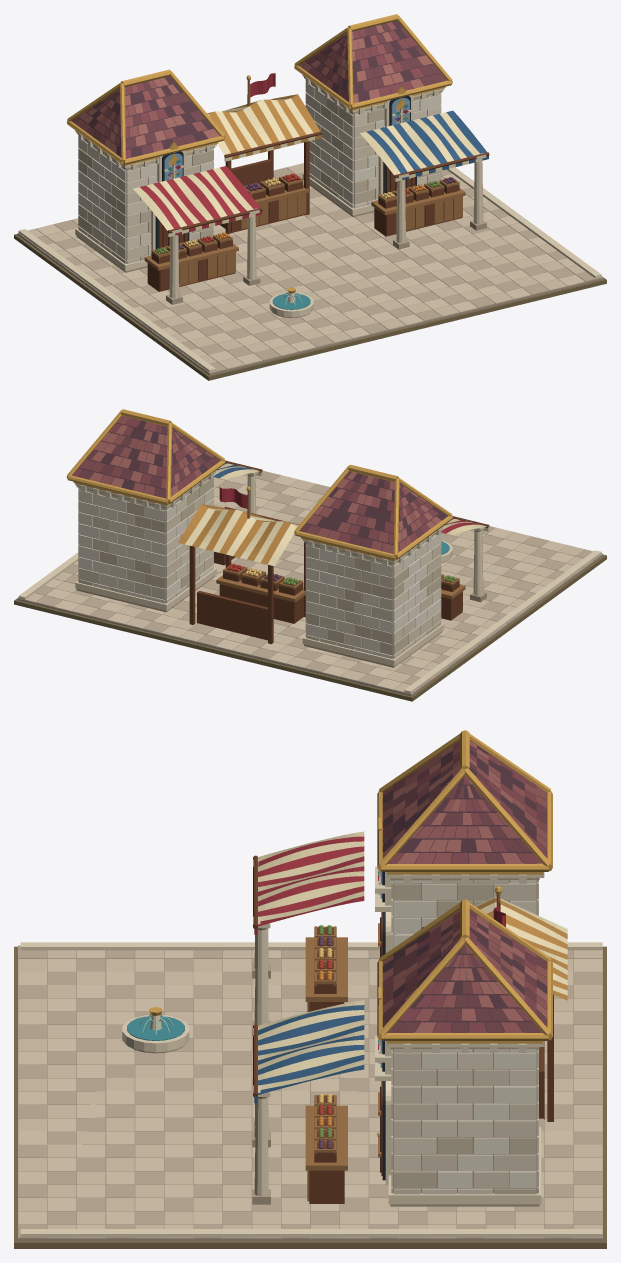
The model's file is market-nivel-4.glb.
3 renders of one model, top to bottom at view 1: azimuth 30°, elevation 25°; view 2: azimuth 150°, elevation 25°; view 3: azimuth 270°, elevation 25°, orthographic. The views are drawn at different scales.
Visible parts, largest first — view 1: Mercado 04 #c1af99, Mercado 04 #dac9af, Mercado 04 #d3c3a9, Mercado 04 #e6d7ba, Mercado 04 #eadbb2, Mercado 04 #70432c, Mercado 04 #9f7145, Mercado 04 #d5a452, Mercado 04 #ded1b9, Mercado 04 #593b44, Mercado 04 #e8dcc5, Mercado 04 #eae1ce (+14 smaller); view 2: Mercado 04 #c1af99, Mercado 04 #d3c3a9, Mercado 04 #dac9af, Mercado 04 #eae1ce, Mercado 04 #e8dcc5, Mercado 04 #ded1b9, Mercado 04 #70432c, Mercado 04 #e6d7ba, Mercado 04 #d5a452, Mercado 04 #593b44, Mercado 04 #cec1a8, Mercado 04 #7f704e (+11 smaller); view 3: Mercado 04 #d3c3a9, Mercado 04 #dac9af, Mercado 04 #c1af99, Mercado 04 #e6d7ba, Mercado 04 #d5a452, Mercado 04 #eadbb2, Mercado 04 #ded1b9, Mercado 04 #593b44, Mercado 04 #ae9d8b, Mercado 04 #eae1ce, Mercado 04 #7f704e, Mercado 04 #70444a (+14 smaller).
Part boxes in pixels (<box>): Mercado 04 #c1af99: <box>27,167,602,373</box>; Mercado 04 #dac9af: <box>36,174,584,364</box>; Mercado 04 #d3c3a9: <box>18,163,585,369</box>; Mercado 04 #e6d7ba: <box>18,75,601,372</box>; Mercado 04 #eadbb2: <box>77,91,482,236</box>; Mercado 04 #70432c: <box>147,131,489,291</box>; Mercado 04 #9f7145: <box>144,173,465,287</box>; Mercado 04 #d5a452: <box>66,14,452,293</box>; Mercado 04 #ded1b9: <box>78,77,441,263</box>; Mercado 04 #593b44: <box>76,21,440,157</box>; Mercado 04 #e8dcc5: <box>78,88,441,248</box>; Mercado 04 #eae1ce: <box>78,82,440,254</box>; Mercado 04 #c1af99: <box>35,471,602,687</box>; Mercado 04 #d3c3a9: <box>18,474,592,694</box>; Mercado 04 #dac9af: <box>44,475,583,689</box>; Mercado 04 #eae1ce: <box>78,487,441,658</box>; Mercado 04 #e8dcc5: <box>78,474,441,647</box>; Mercado 04 #ded1b9: <box>78,472,441,658</box>; Mercado 04 #70432c: <box>189,460,489,644</box>; Mercado 04 #e6d7ba: <box>18,470,601,693</box>; Mercado 04 #d5a452: <box>66,409,452,561</box>; Mercado 04 #593b44: <box>78,416,447,551</box>; Mercado 04 #cec1a8: <box>78,477,441,654</box>; Mercado 04 #7f704e: <box>14,554,606,701</box>; Mercado 04 #d3c3a9: <box>18,950,602,1238</box>; Mercado 04 #dac9af: <box>18,950,602,1238</box>; Mercado 04 #c1af99: <box>18,945,602,1238</box>; Mercado 04 #e6d7ba: <box>20,859,602,1238</box>; Mercado 04 #d5a452: <box>149,730,552,1136</box>; Mercado 04 #eadbb2: <box>258,831,567,1089</box>; Mercado 04 #ded1b9: <box>386,872,544,1194</box>; Mercado 04 #593b44: <box>382,745,547,1032</box>; Mercado 04 #ae9d8b: <box>18,946,602,1241</box>; Mercado 04 #eae1ce: <box>391,880,538,1187</box>; Mercado 04 #7f704e: <box>14,946,606,1248</box>; Mercado 04 #70444a: <box>382,745,547,1032</box>.
Bounding box in the file's own units: 12.79 × 5.4 × 10.82.
